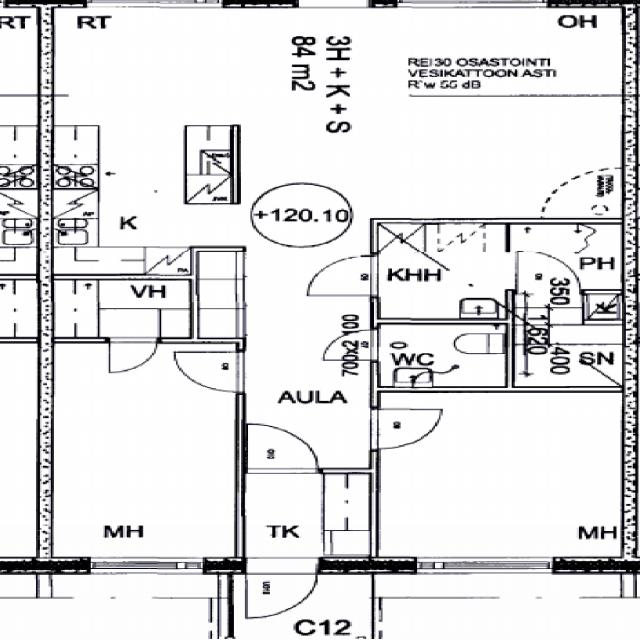door: (246, 557, 316, 618), (246, 423, 318, 473), (370, 408, 441, 448), (174, 352, 244, 392), (516, 250, 579, 294), (310, 256, 378, 294), (108, 338, 158, 373), (322, 330, 378, 360)
